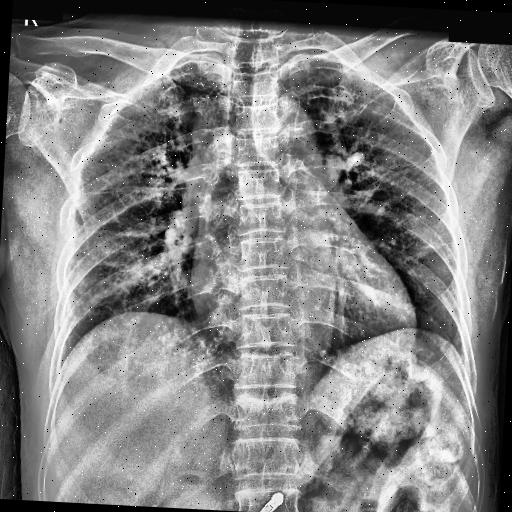0- Aortic enlargement: (246, 94, 326, 186), (256, 102, 330, 182), (250, 98, 324, 170)
13- Pulmonary fibrosis: (308, 66, 366, 132)
3- Cardiomegaly: (182, 247, 421, 364), (182, 272, 418, 364), (186, 268, 416, 340)
5- ILD: (291, 55, 480, 327), (68, 74, 192, 314)
